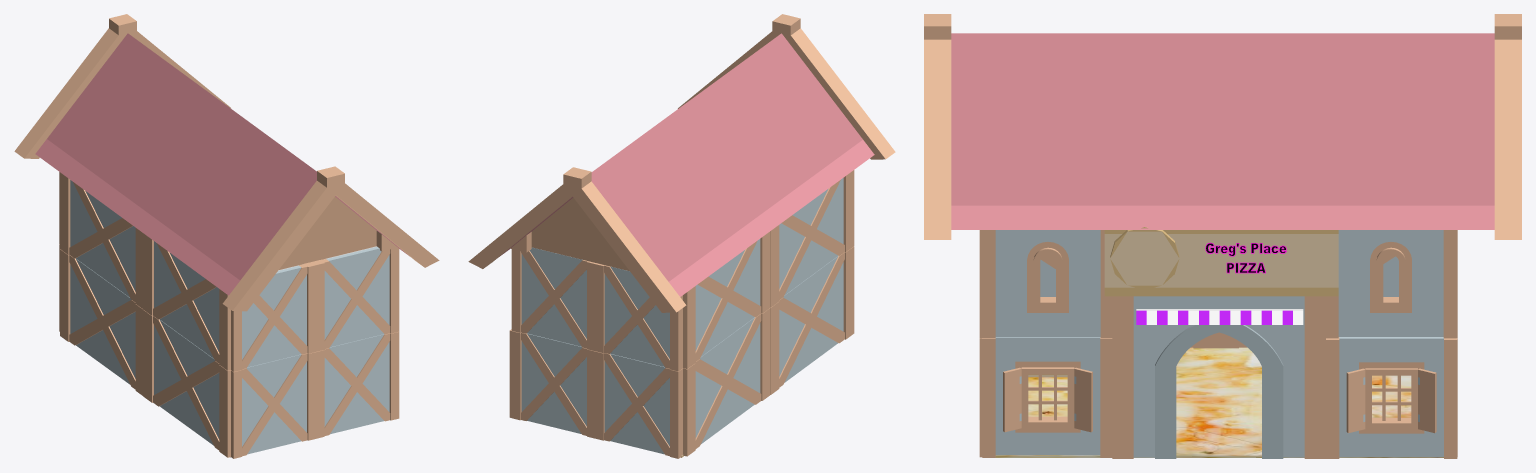
The model's file is gregs.glb.
3 renders of one model, left to right at view 1: azimuth 30°, elevation 25°; view 2: azimuth 150°, elevation 25°; view 3: azimuth 270°, elevation 25°, orthographic. The views are drawn at different scales.
Visible parts, largest first — view 1: roofHighGableDetail, wallDetailCross.009, wallDetailCross.001, wallDetailCross.003, wallDetailCross, wallDetailCross.008, wallDetailCross.002, wallDetailCross.010, wallDetailCross.011; view 2: roofHighGableDetail, wallDetailCross.006, wallDetailCross.008, wallDetailCross.009, wallDetailCross.007, wallDetailCross.004, wallDetailCross.011, wallDetailCross.005, wallDetailCross.010; view 3: roofHighGableDetail, wallDoorwayRound, wallWindowRound.001, wallWindowRound, wallWindowShutters.001, Cube, mesh_1035701127, wallWindowShutters, mesh_49051142, mesh_2006407116, shutter.003, shutter (+7 smaller).
Boxes of the visible parts, left/top/right/bottom form: roofHighGableDetail: left=14, top=14, right=439, bottom=311; wallDetailCross.009: left=143, top=310, right=230, bottom=457; wallDetailCross.001: left=231, top=352, right=316, bottom=458; wallDetailCross.003: left=312, top=246, right=399, bottom=351; wallDetailCross: left=316, top=331, right=399, bottom=438; wallDetailCross.008: left=60, top=249, right=143, bottom=396; wallDetailCross.002: left=231, top=262, right=316, bottom=371; wallDetailCross.010: left=143, top=234, right=230, bottom=370; wallDetailCross.011: left=60, top=172, right=143, bottom=309; roofHighGableDetail: left=468, top=14, right=895, bottom=312; wallDetailCross.006: left=595, top=351, right=682, bottom=458; wallDetailCross.008: left=683, top=308, right=770, bottom=456; wallDetailCross.009: left=770, top=246, right=854, bottom=394; wallDetailCross.007: left=512, top=331, right=595, bottom=438; wallDetailCross.004: left=512, top=247, right=596, bottom=350; wallDetailCross.011: left=683, top=231, right=770, bottom=368; wallDetailCross.005: left=595, top=263, right=682, bottom=371; wallDetailCross.010: left=770, top=170, right=854, bottom=307; roofHighGableDetail: left=924, top=14, right=1521, bottom=239; wallDoorwayRound: left=1112, top=296, right=1325, bottom=458; wallWindowRound.001: left=982, top=230, right=1112, bottom=338; wallWindowRound: left=1326, top=230, right=1456, bottom=338; wallWindowShutters.001: left=1326, top=337, right=1457, bottom=458; Cube: left=995, top=347, right=1443, bottom=457; mesh_1035701127: left=1104, top=230, right=1338, bottom=296; wallWindowShutters: left=982, top=337, right=1112, bottom=457; mesh_49051142: left=1110, top=227, right=1179, bottom=289; mesh_2006407116: left=1136, top=309, right=1303, bottom=324; shutter.003: left=1346, top=368, right=1365, bottom=433; shutter: left=1074, top=367, right=1092, bottom=432.
Size of the model in its own units: 2.5 by 3.22 by 4.56.
Materials: 78 (1 with a texture image).
